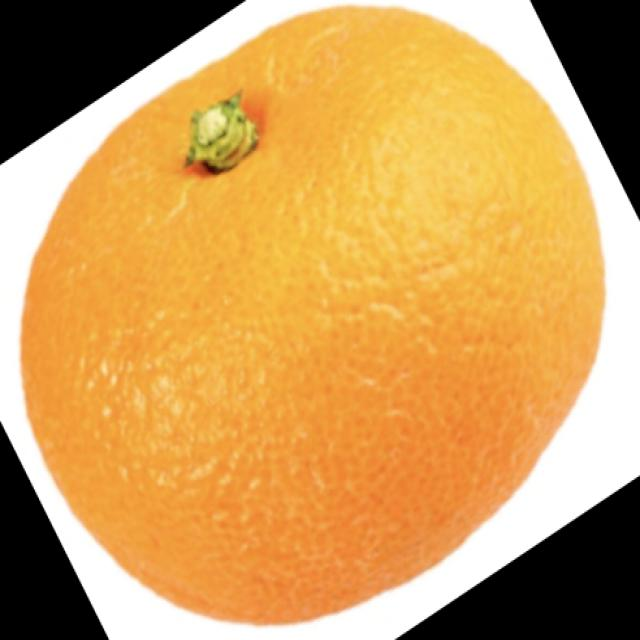fresh: (9, 9, 608, 627)
